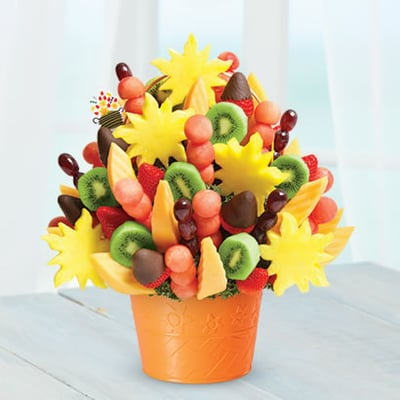curry: (6, 261, 399, 399)
soup: (53, 52, 355, 388), (128, 267, 269, 385)
